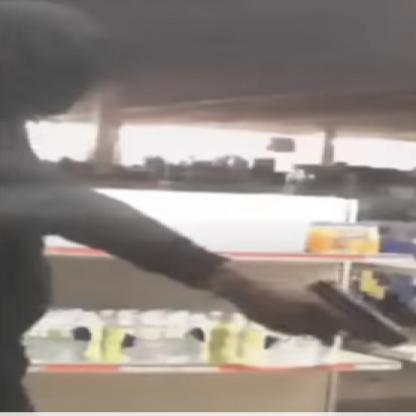weapon: (306, 273, 410, 349)
